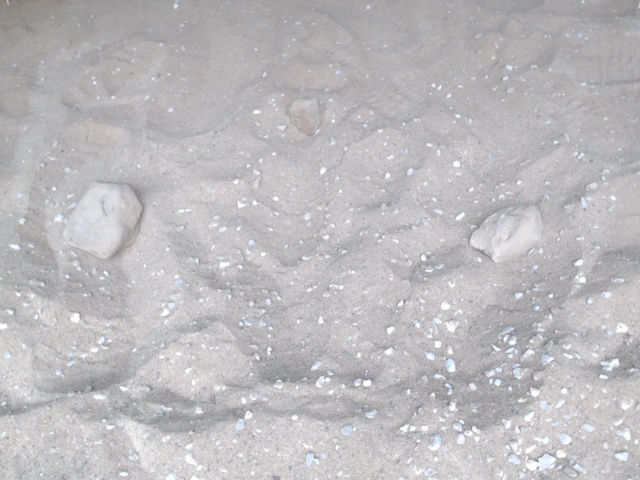rock: (58, 175, 152, 266), (465, 199, 548, 267), (282, 93, 327, 142)
